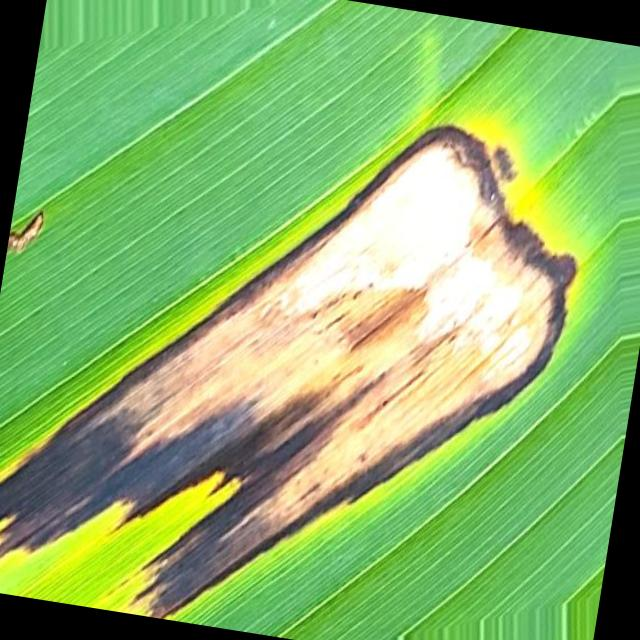Banana_Black_Sigatoka: (0, 62, 579, 640)
